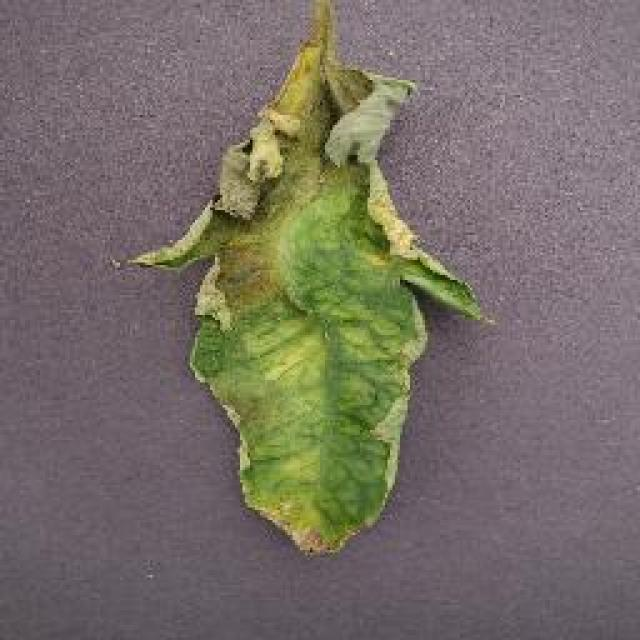Tomato Late Blight: (155, 53, 430, 300)
